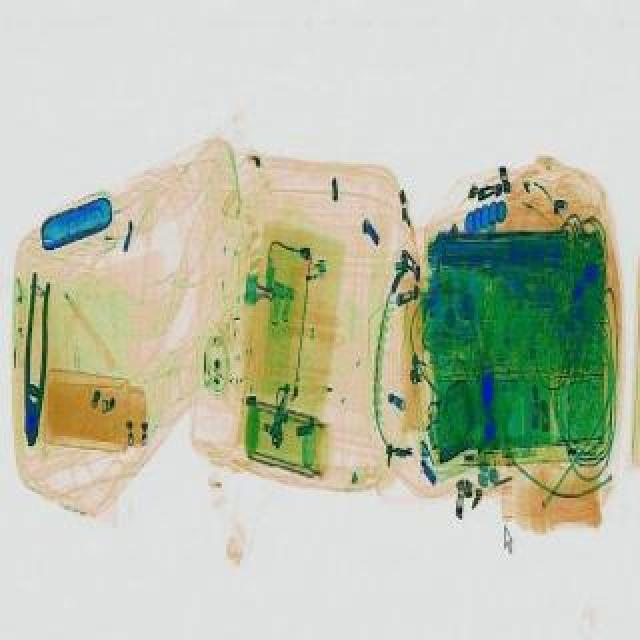wrench: (18, 268, 54, 444)
